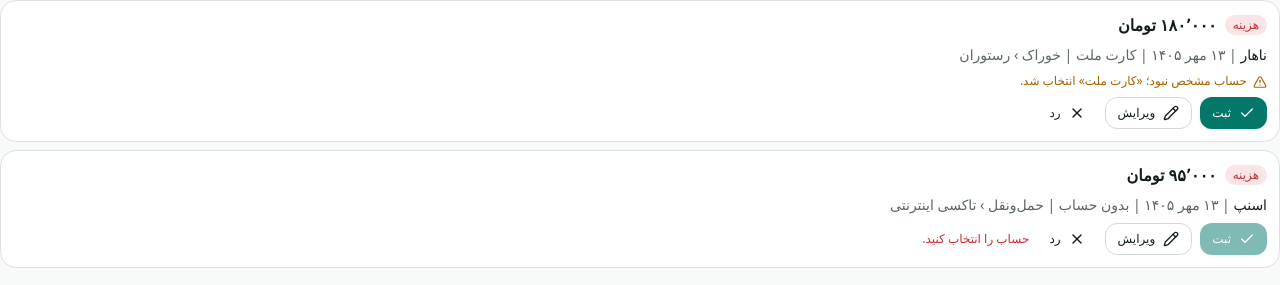
DraftList › shows each draft with its warnings and records one only on request
The image size is (1280, 285).
Check: the list item "حساب مشخص نبود؛ «کارت ملت» انتخاب شد." is shown, box [1020,72,1267,89]
Check: the text "ناهار | ۱۳ مهر ۱۴۰۵ | کارت ملت | خوراک › رستوران" is shown, box [959,45,1267,64]
Click the button "ثبت" below "حساب مشخص نبود؛ «کارت ملت» انتخاب شد.": point(1234, 113) [1200,97,1267,129]
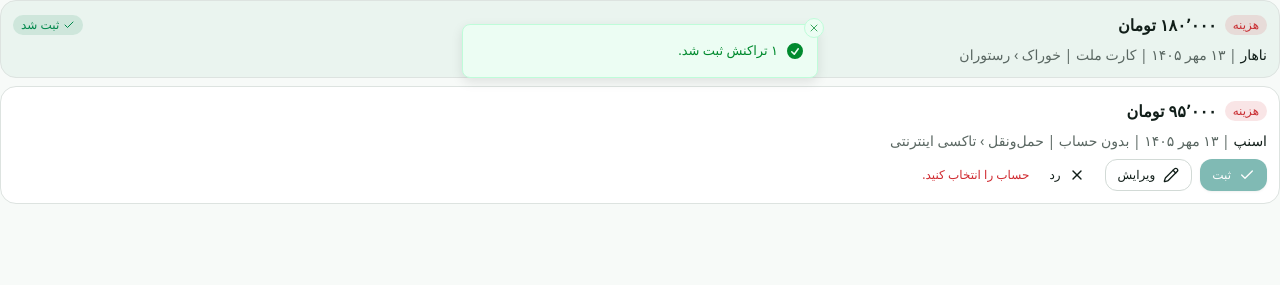
Check: the text "ثبت شد" is shown, box [13,15,83,35]
